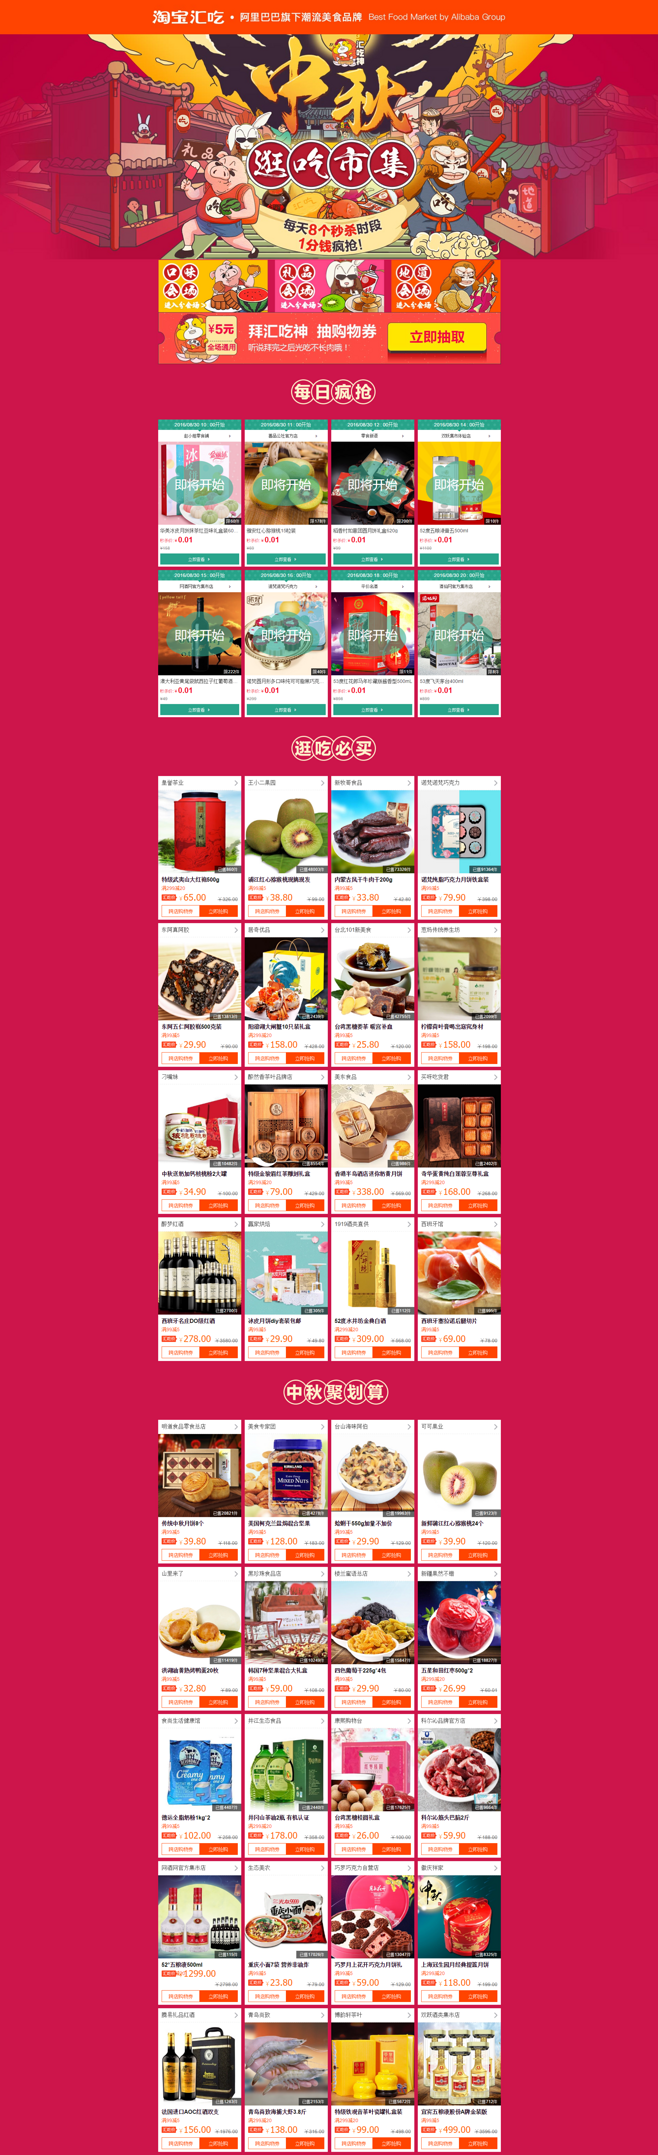floors: (152, 1376, 506, 2155), (154, 733, 506, 1365), (1, 1, 658, 258), (152, 375, 507, 723)
toutu: (152, 258, 510, 368)
